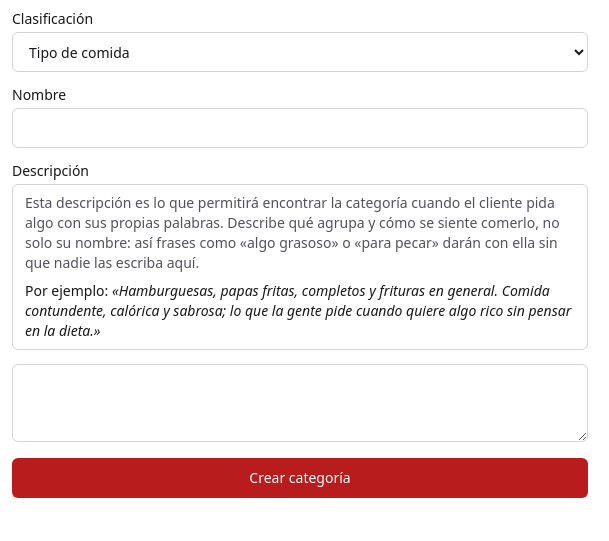
Test: Formulario de categoría · alta (FR-002, FR-003) › presenta el nombre duplicado **junto al campo del nombre**, conservando lo escrito
Type "Pizzas" into the field labelled "Nombre" at {"x": 300, "y": 128}, box [12, 108, 588, 148]
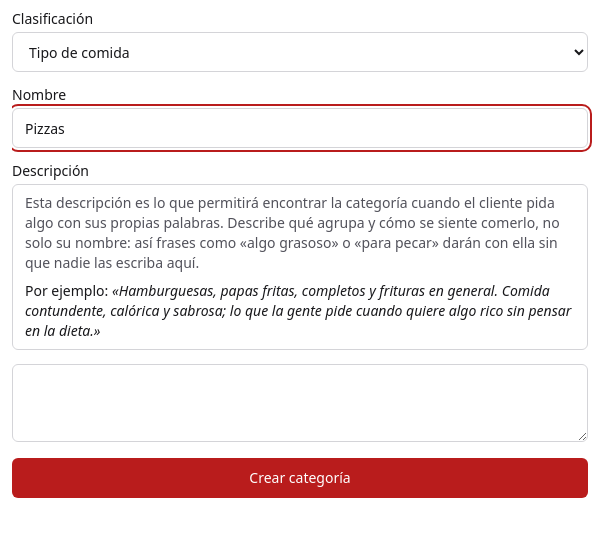
Type "Agrupa preparaciones horneadas de masa con distintas combinaciones de queso y verduras." into the text box labelled "Descripción" at {"x": 300, "y": 403}, box [12, 364, 588, 442]
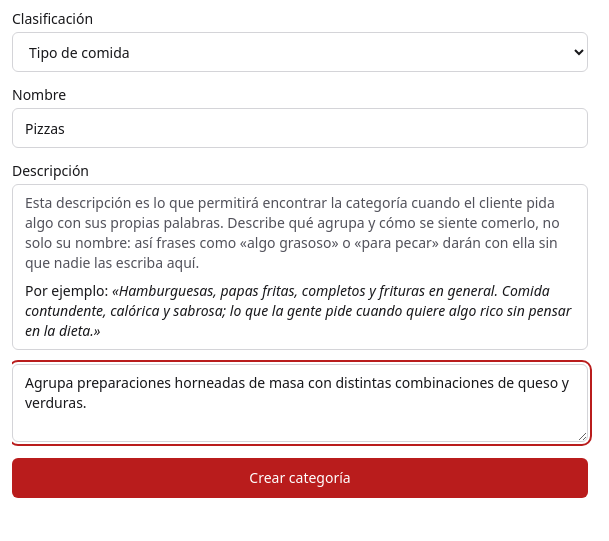
Click the button "Crear categoría" at {"x": 300, "y": 478}, box [12, 458, 588, 498]
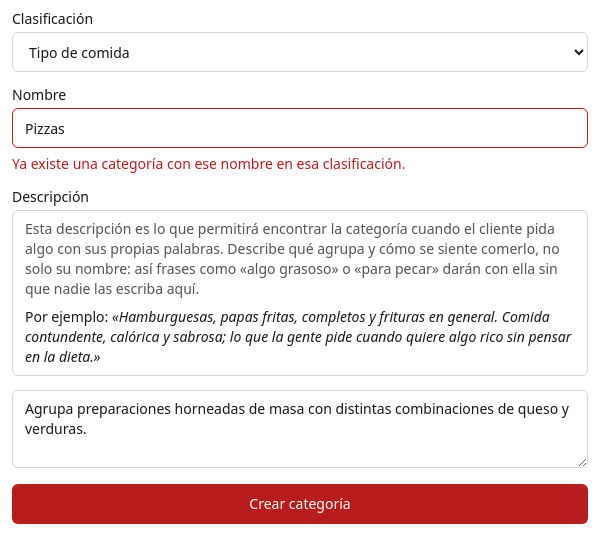
Result: the text "Ya existe una categoría con ese nombre en esa clasificación." is shown at [12, 154, 405, 173]
